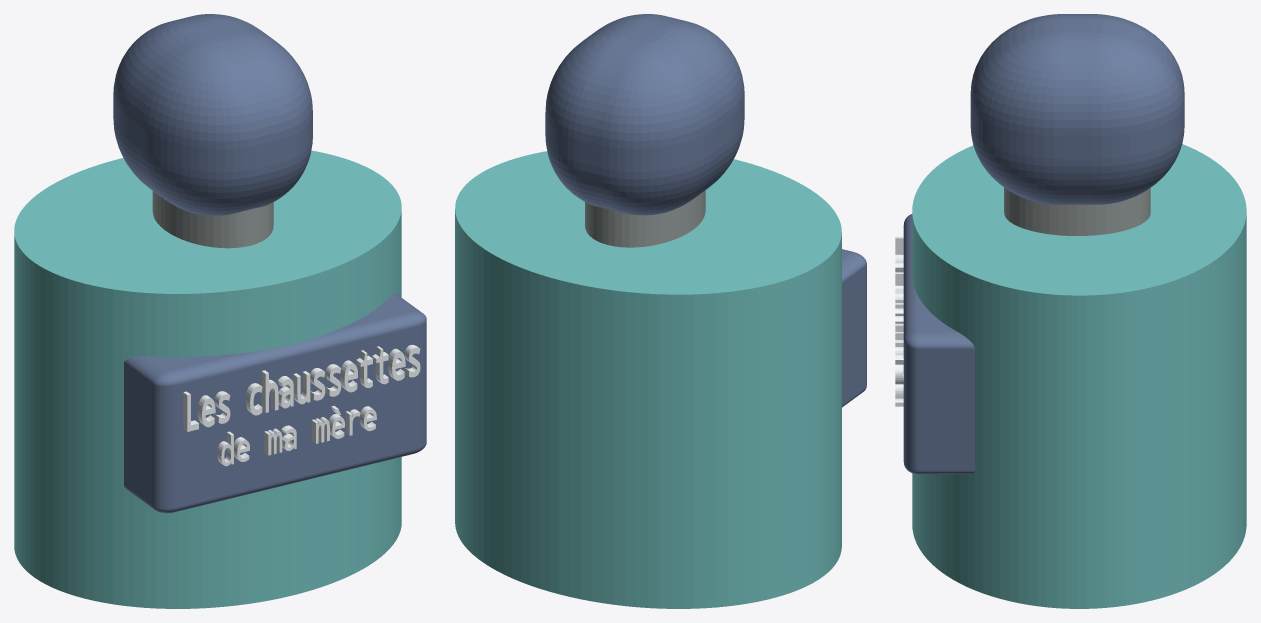
Rendered from smarzas.glb.
3 views of the same model, side by side, from view 1: azimuth 30°, elevation 25°; view 2: azimuth 150°, elevation 25°; view 3: azimuth 270°, elevation 25° (orthographic).
Visible parts, largest first — view 1: obj_5; view 2: obj_5; view 3: obj_5.
Boxes of the visible parts, x1,y1,x2,y2 form: obj_5: [14, 14, 426, 608]; obj_5: [455, 14, 866, 608]; obj_5: [895, 14, 1246, 608].
Size of the model in its own units: 0.16 by 0.22 by 0.14.
